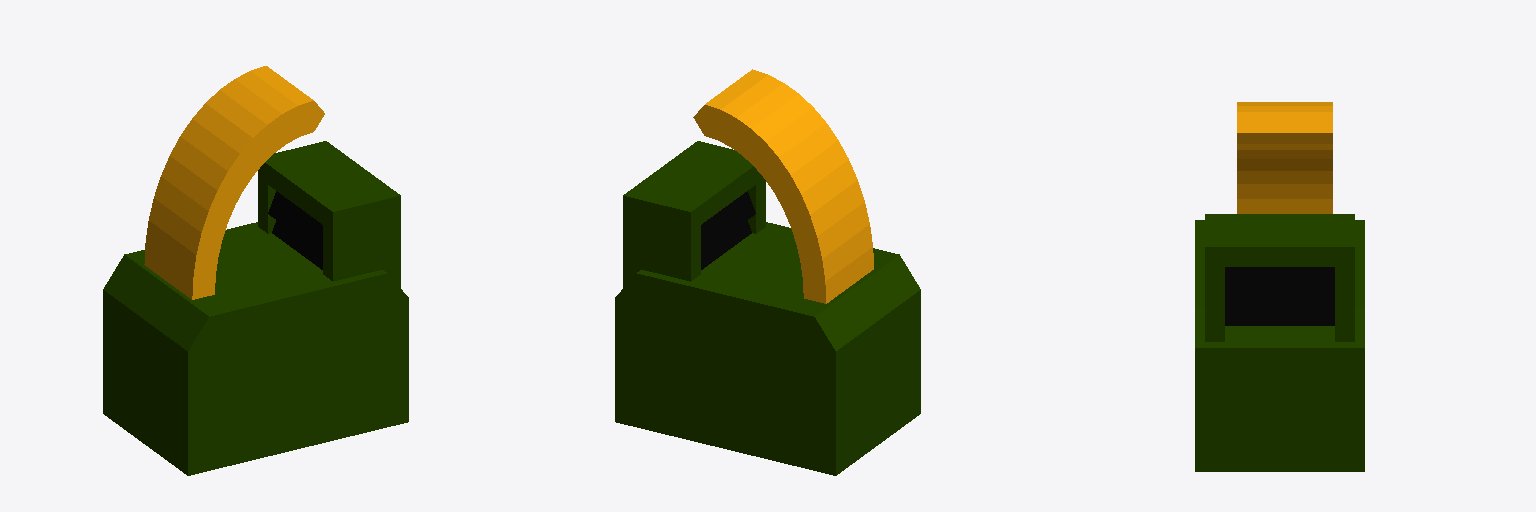
Rendered from mag4.model.obj.
3 views of the same model, side by side, from view 1: azimuth 30°, elevation 25°; view 2: azimuth 150°, elevation 25°; view 3: azimuth 270°, elevation 25° (orthographic).
Size of the model in its own units: 0.6 by 0.841 by 0.4.